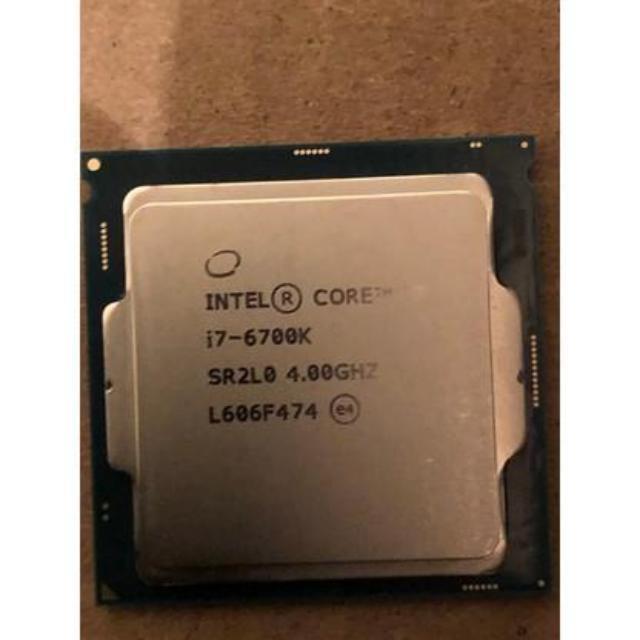CPU: (91, 166, 528, 582)
